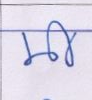i_matra: (51, 19, 78, 67)
